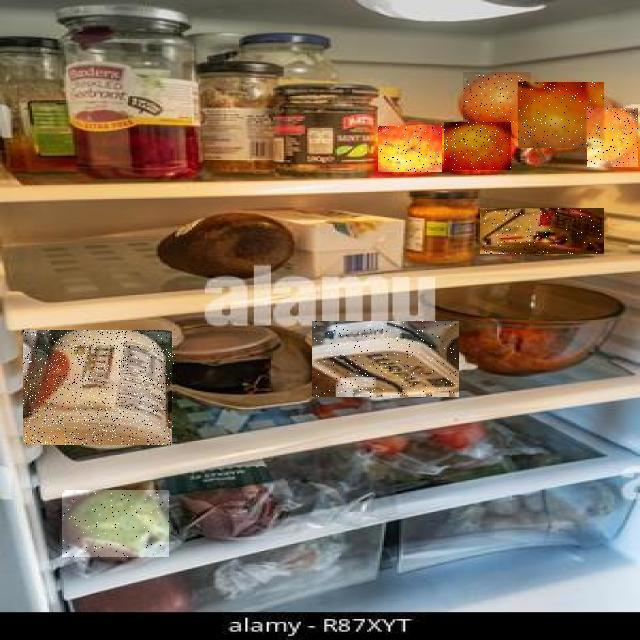Apple: (62, 490, 169, 557)
Butter: (480, 209, 604, 255)
Cream: (312, 321, 459, 397)
Orange: (518, 82, 604, 148), (463, 72, 531, 122), (444, 122, 511, 170), (587, 108, 638, 167), (378, 126, 442, 172)
Yoghurt: (24, 330, 176, 445)
